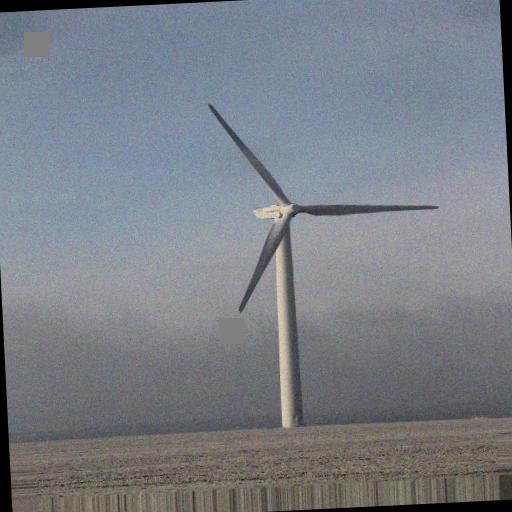wind turbine: (204, 102, 439, 427)
